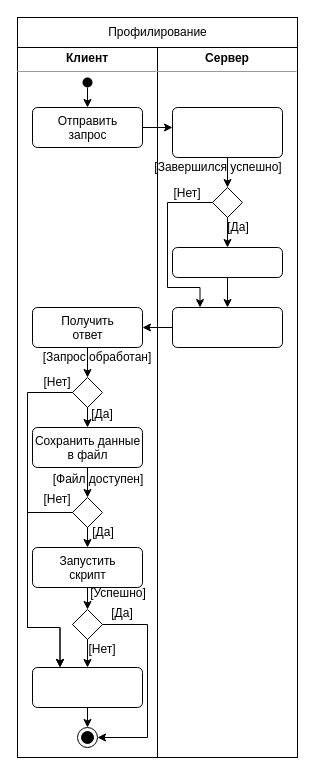
Some shapes in this 315 by 775 pixel diagram are drawn without their labels. The box of each missing label's shape, as (x1, y1, x2, y2) in pixels:
Обработать запрос, запустить скрипт: (172, 106, 282, 158)
Показать ошибку: (32, 666, 142, 708)
Прочитать данные: (172, 246, 282, 278)
Сформировать ответ: (172, 306, 282, 348)
